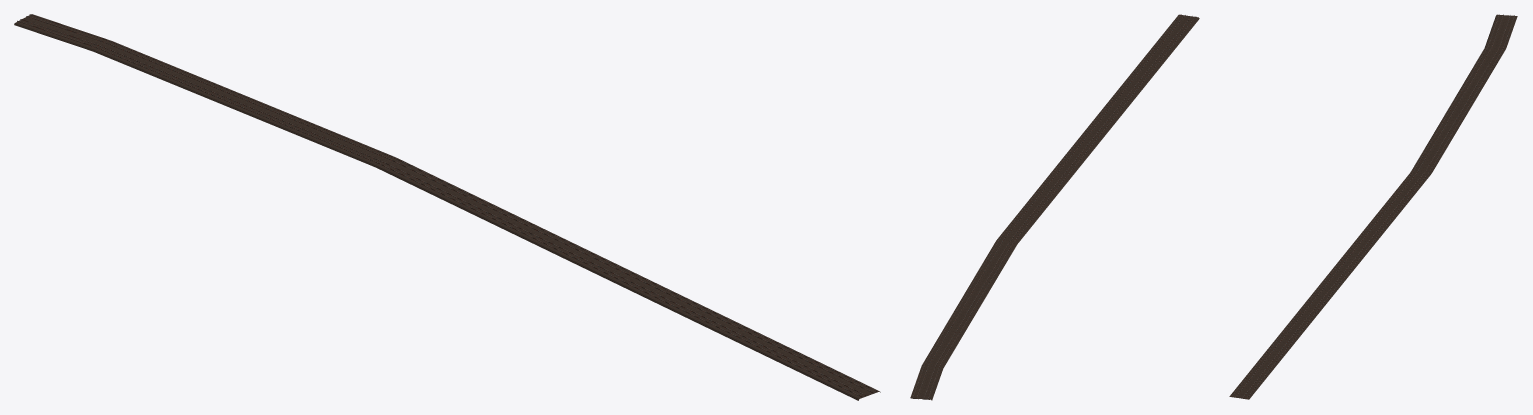
Rendered from kobe_0045.glb.
3 views of the same model, side by side, from view 1: azimuth 30°, elevation 25°; view 2: azimuth 150°, elevation 25°; view 3: azimuth 330°, elevation 25° (orthographic). The views are drawn at different scales.
Parts seen in each view (by area): view 1: ballast_top, oxidised_rail_profiles, ballast_left; view 2: ballast_top, oxidised_rail_profiles, ballast_left, polished_rail_heads; view 3: ballast_top, oxidised_rail_profiles, polished_rail_heads.
Boxes of the visible parts, x1,y1,x2,y2 form: ballast_top: (15, 14, 879, 398); oxidised_rail_profiles: (17, 14, 877, 397); ballast_left: (14, 23, 859, 400); ballast_top: (910, 14, 1198, 399); oxidised_rail_profiles: (913, 14, 1195, 398); ballast_left: (931, 17, 1199, 400); polished_rail_heads: (913, 14, 1191, 397); ballast_top: (1229, 14, 1517, 399); oxidised_rail_profiles: (1232, 14, 1514, 398); polished_rail_heads: (1234, 16, 1513, 395).
Size of the model in its own units: 85.61 by 0.819 by 326.
4 materials, 3 textured.
